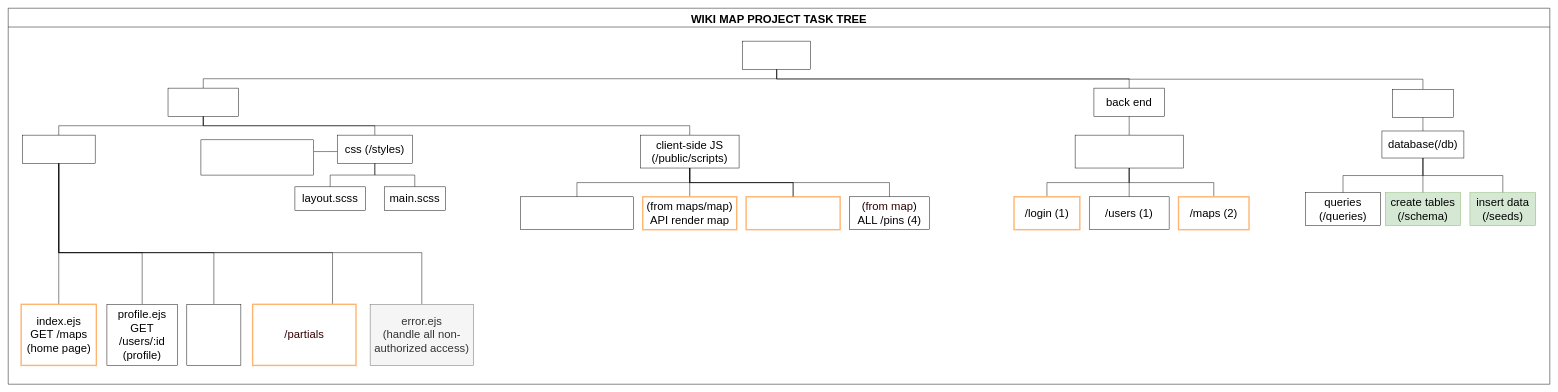
Some shapes in this 1558 by 392 pixel diagram are drawn without their labels. Here are the shapes that lost their labels. From the top down, the box of each, then its label:
(742, 41, 811, 69): wiki-map
(168, 88, 239, 116): front end
(1392, 89, 1453, 118): database
(22, 135, 95, 163): html (/views)
(200, 139, 314, 175): More style sheets to be added depending on the elements
(1075, 135, 1183, 168): server-side JS (/routes) - all GETs
(520, 196, 633, 230): (create from navbar) POST /maps
(745, 196, 841, 230): (from maps/map) POST /favs
(186, 304, 241, 365): map.ejs GET /maps/:id (map)
